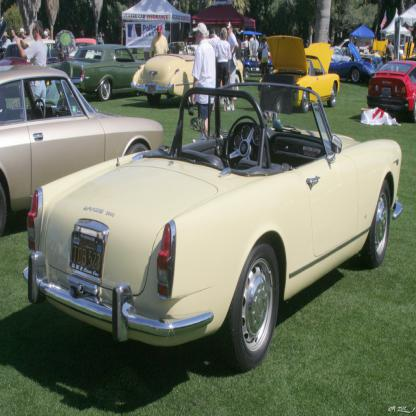Car: (0, 35, 416, 373)
